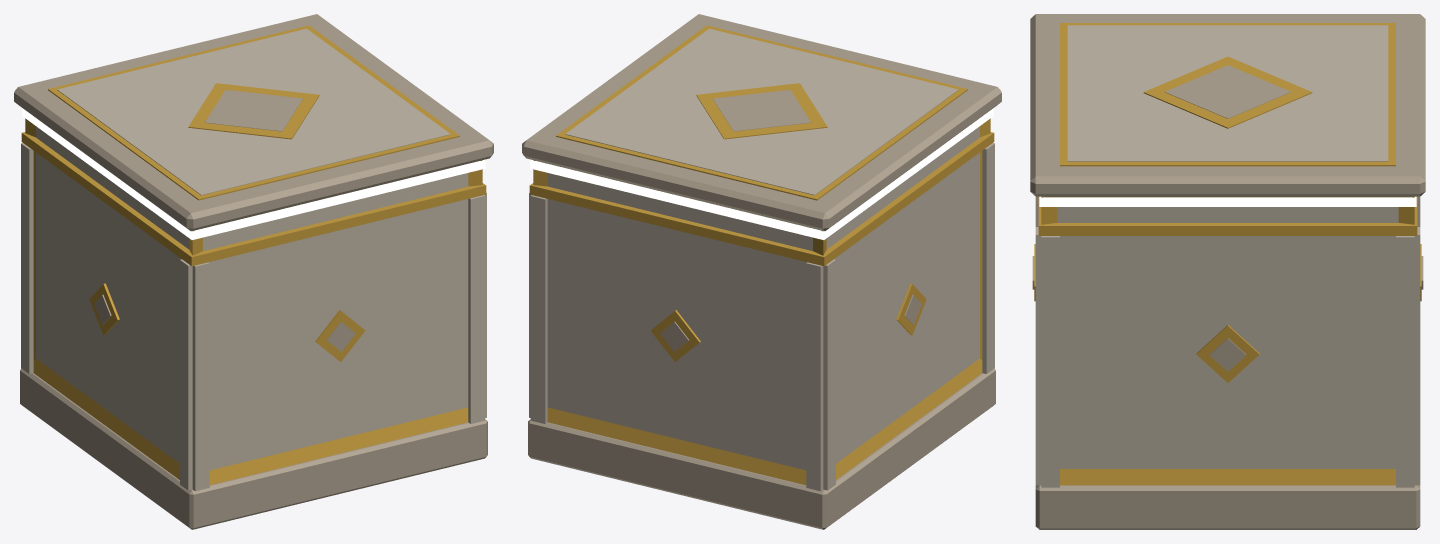
File: kit-paris-wall.glb
3 renders of one model, left to right at view 1: azimuth 30°, elevation 25°; view 2: azimuth 150°, elevation 25°; view 3: azimuth 270°, elevation 25°, orthographic. The views are drawn at different scales.
Parts seen in each view (by area): view 1: kit-paris-wall; view 2: kit-paris-wall; view 3: kit-paris-wall.
Part boxes in pixels (x1,y1,x2,y2): kit-paris-wall: (14,14,493,529); kit-paris-wall: (522,14,1001,529); kit-paris-wall: (1030,14,1425,529).
Bounding box in the file's own units: 2.12 × 2.12 × 2.12.
